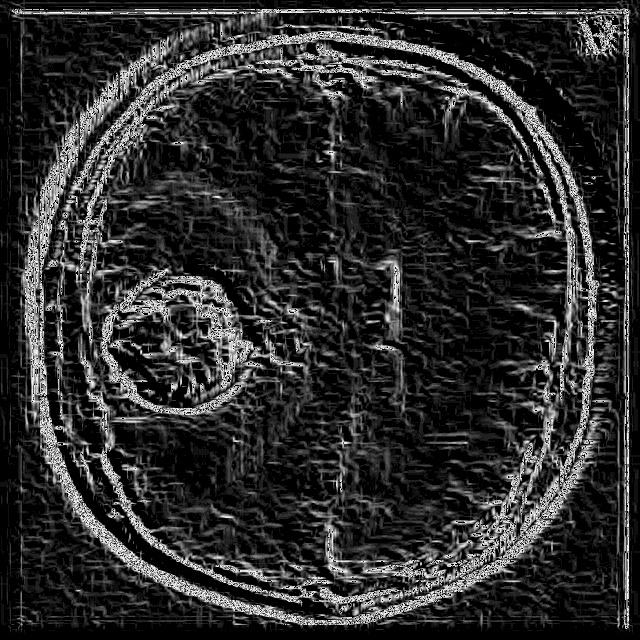Brain-Tumor: (87, 261, 302, 428)
